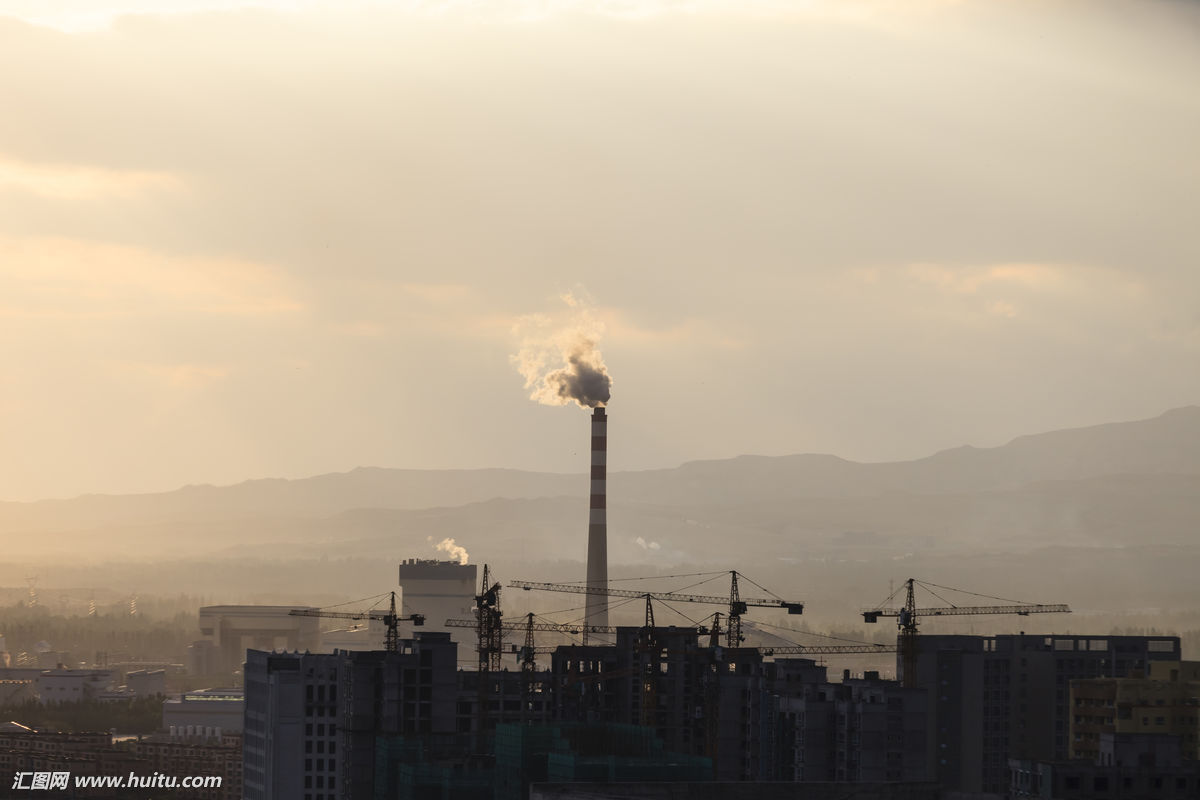dust: (503, 312, 634, 421)
